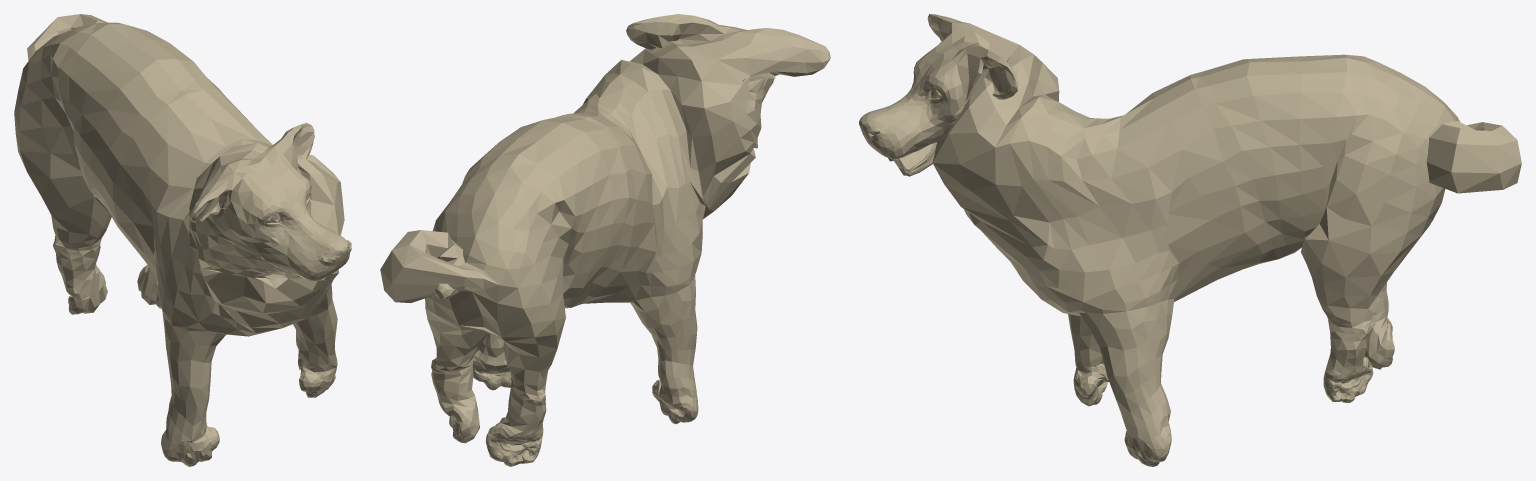
3 views of the same model, side by side, from view 1: azimuth 30°, elevation 25°; view 2: azimuth 150°, elevation 25°; view 3: azimuth 270°, elevation 25° (orthographic). The views are drawn at different scales.
Parts seen in each view (by area): view 1: world; view 2: world; view 3: world.
Part boxes in pixels (x1,y1,x2,y2): world: (14,14,351,466); world: (380,14,830,466); world: (859,14,1521,466).
Bounding box in the file's own units: 0.5004 × 0.6844 × 1.09.
